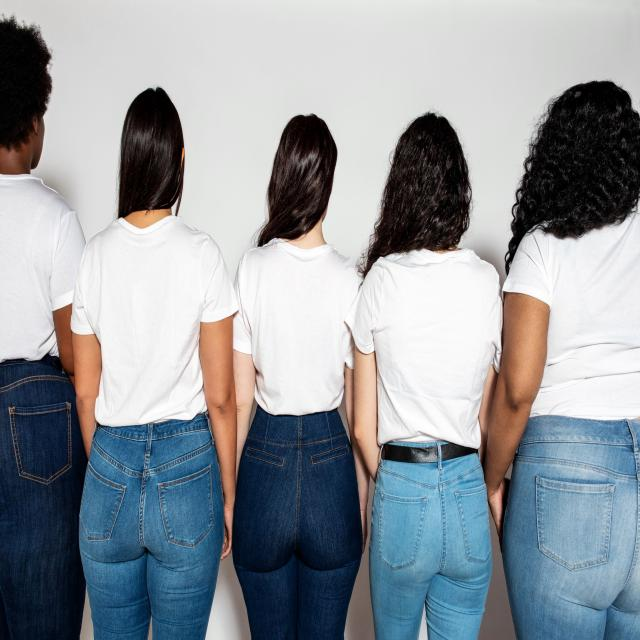adult: (73, 84, 239, 640), (486, 76, 640, 640), (353, 113, 502, 640), (229, 111, 365, 640), (0, 15, 86, 640)
